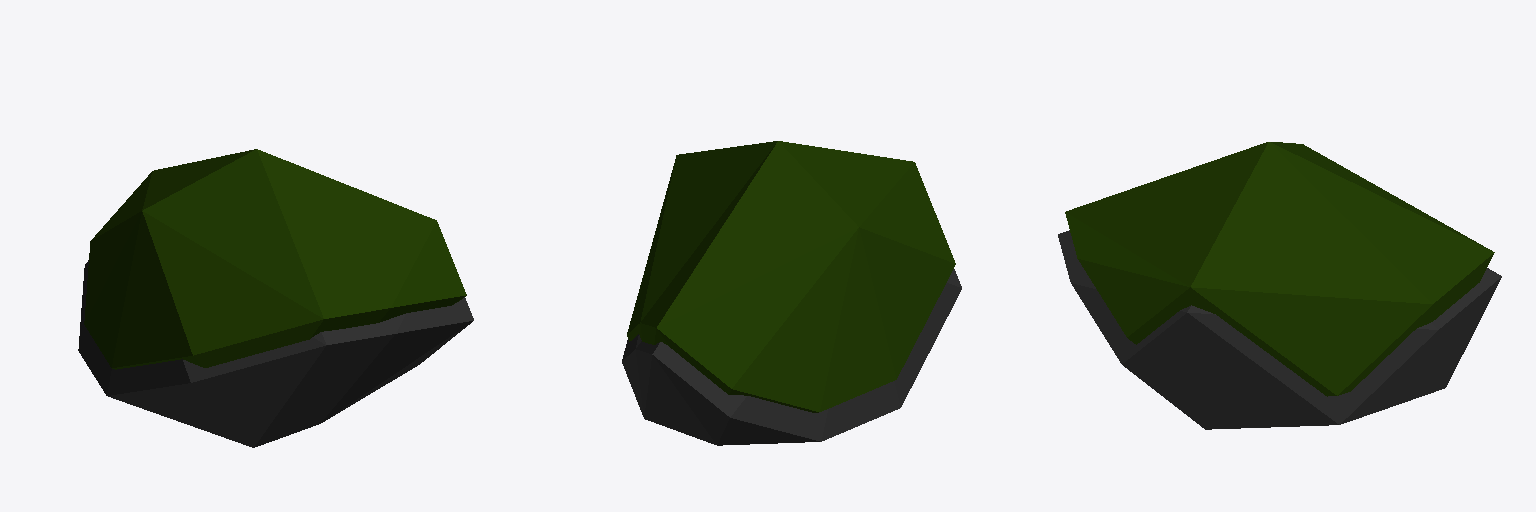
The picture shows the model from 3 angles: view 1: azimuth 30°, elevation 25°; view 2: azimuth 150°, elevation 25°; view 3: azimuth 270°, elevation 25°; orthographic projection.
Visible parts, largest first — view 1: Stone_2_moss_mat_Icosphere.002; view 2: Stone_2_moss_mat_Icosphere.002; view 3: Stone_2_moss_mat_Icosphere.002.
Boxes of the visible parts, <box> form: Stone_2_moss_mat_Icosphere.002: <box>78,149,473,447</box>; Stone_2_moss_mat_Icosphere.002: <box>622,141,961,445</box>; Stone_2_moss_mat_Icosphere.002: <box>1058,142,1501,429</box>.
Size of the model in its own units: 1.09 by 0.8292 by 1.49.